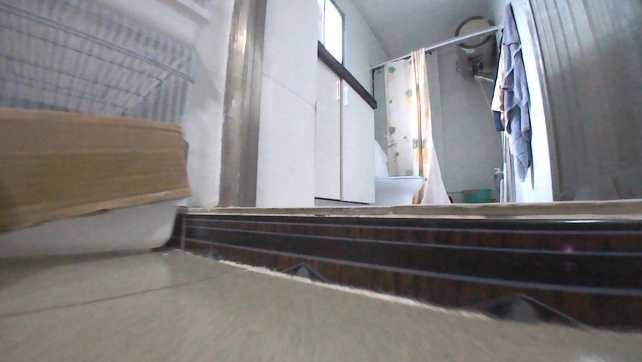door_sill: (173, 197, 640, 328)
toilet: (370, 141, 421, 205)
